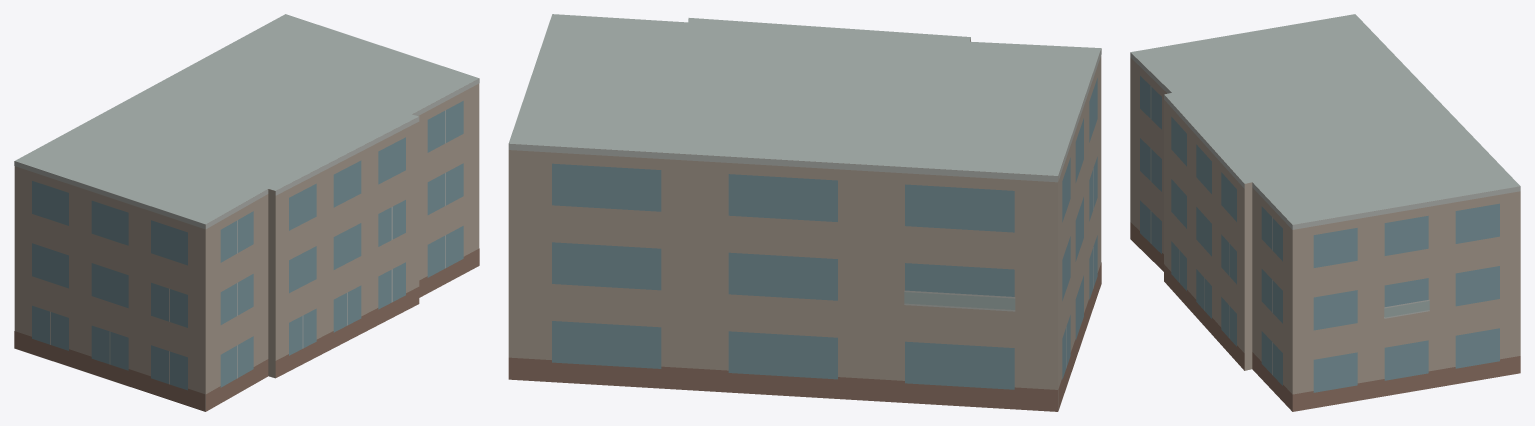
File: survey-upis-32850831.glb
The picture shows the model from 3 angles, left to right: view 1: azimuth 30°, elevation 25°; view 2: azimuth 150°, elevation 25°; view 3: azimuth 270°, elevation 25°; orthographic projection. The views are drawn at different scales.
Parts seen in each view (by area): view 1: survey-upis-32850831.tmp; view 2: survey-upis-32850831.tmp; view 3: survey-upis-32850831.tmp.
Boxes of the visible parts, x1=… form: survey-upis-32850831.tmp: x1=14, y1=14, x2=479, y2=411; survey-upis-32850831.tmp: x1=508, y1=14, x2=1101, y2=411; survey-upis-32850831.tmp: x1=1130, y1=14, x2=1520, y2=411.
Size of the model in its own units: 22.15 by 9.15 by 17.32.
